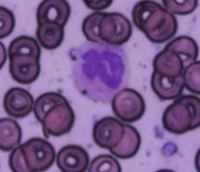N: (70, 40, 131, 102)
